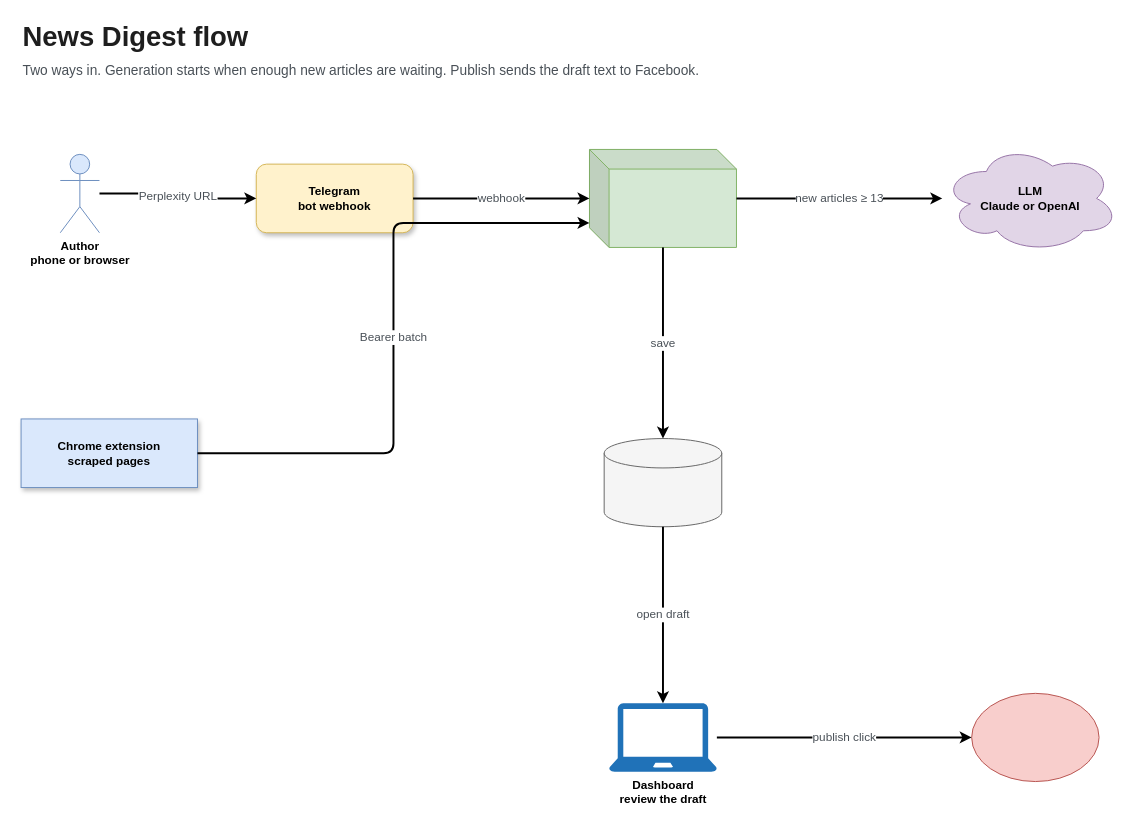
Some shapes in this 1136 by 823 pixel diagram are drawn without their labels. Each missing label, with the centre of its shape:
"Digest server Express" goes at (662,197).
"Postiz Facebook text" goes at (1035,737).
"SQLite articles and drafts" goes at (662,482).
